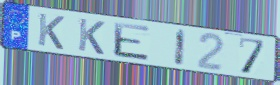2: (195, 32, 227, 73)
7: (237, 37, 266, 76)
E: (112, 21, 152, 63)
I: (173, 28, 188, 68)
K: (37, 12, 67, 52), (77, 17, 107, 57)
